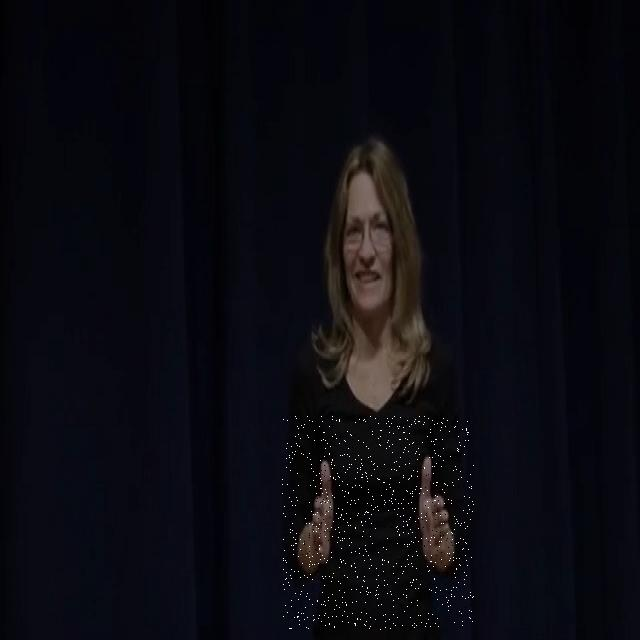manager: (282, 416, 474, 630)
